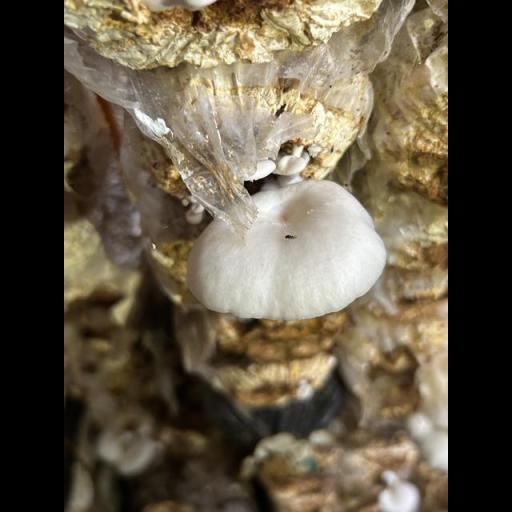White Oyster Mushroom: (189, 178, 384, 321)
